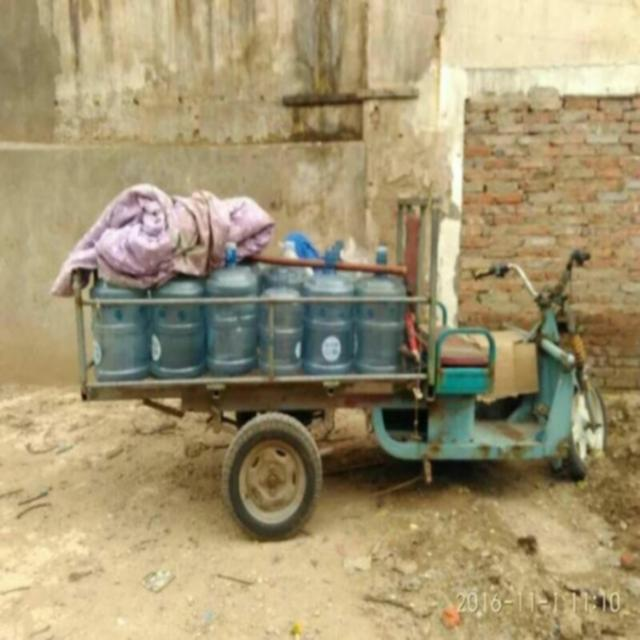tricycle: (63, 184, 606, 540)
